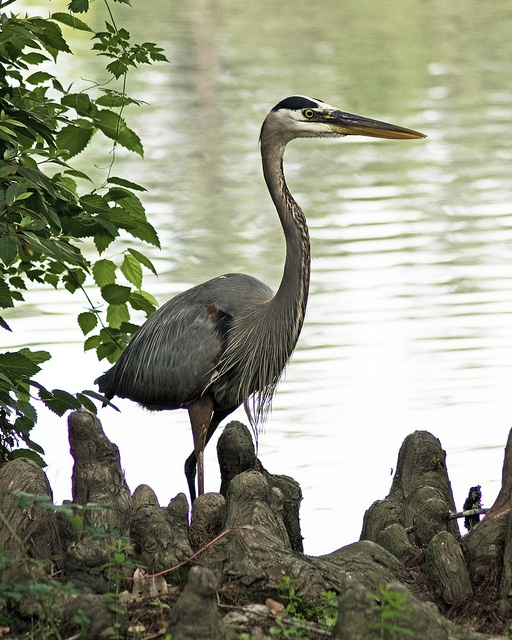heron: (90, 88, 428, 505)
